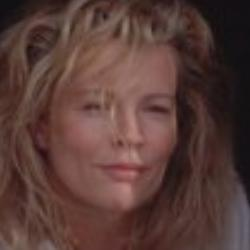face: (10, 5, 232, 220)
